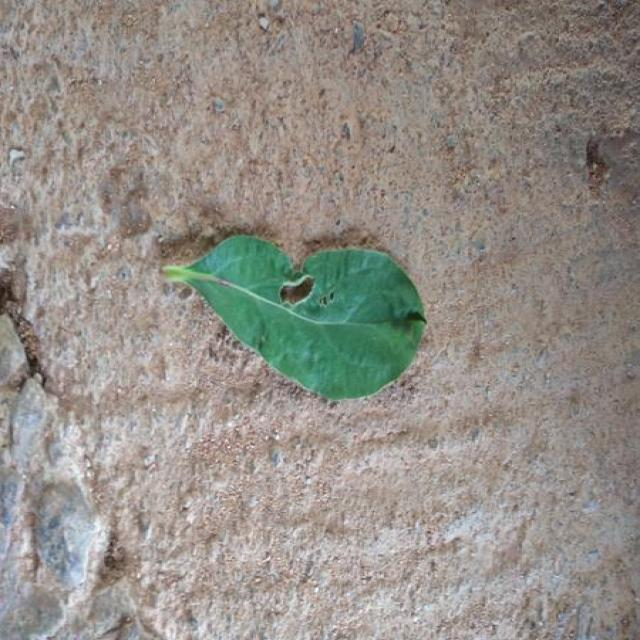globe amarnath: (163, 235, 425, 399)
